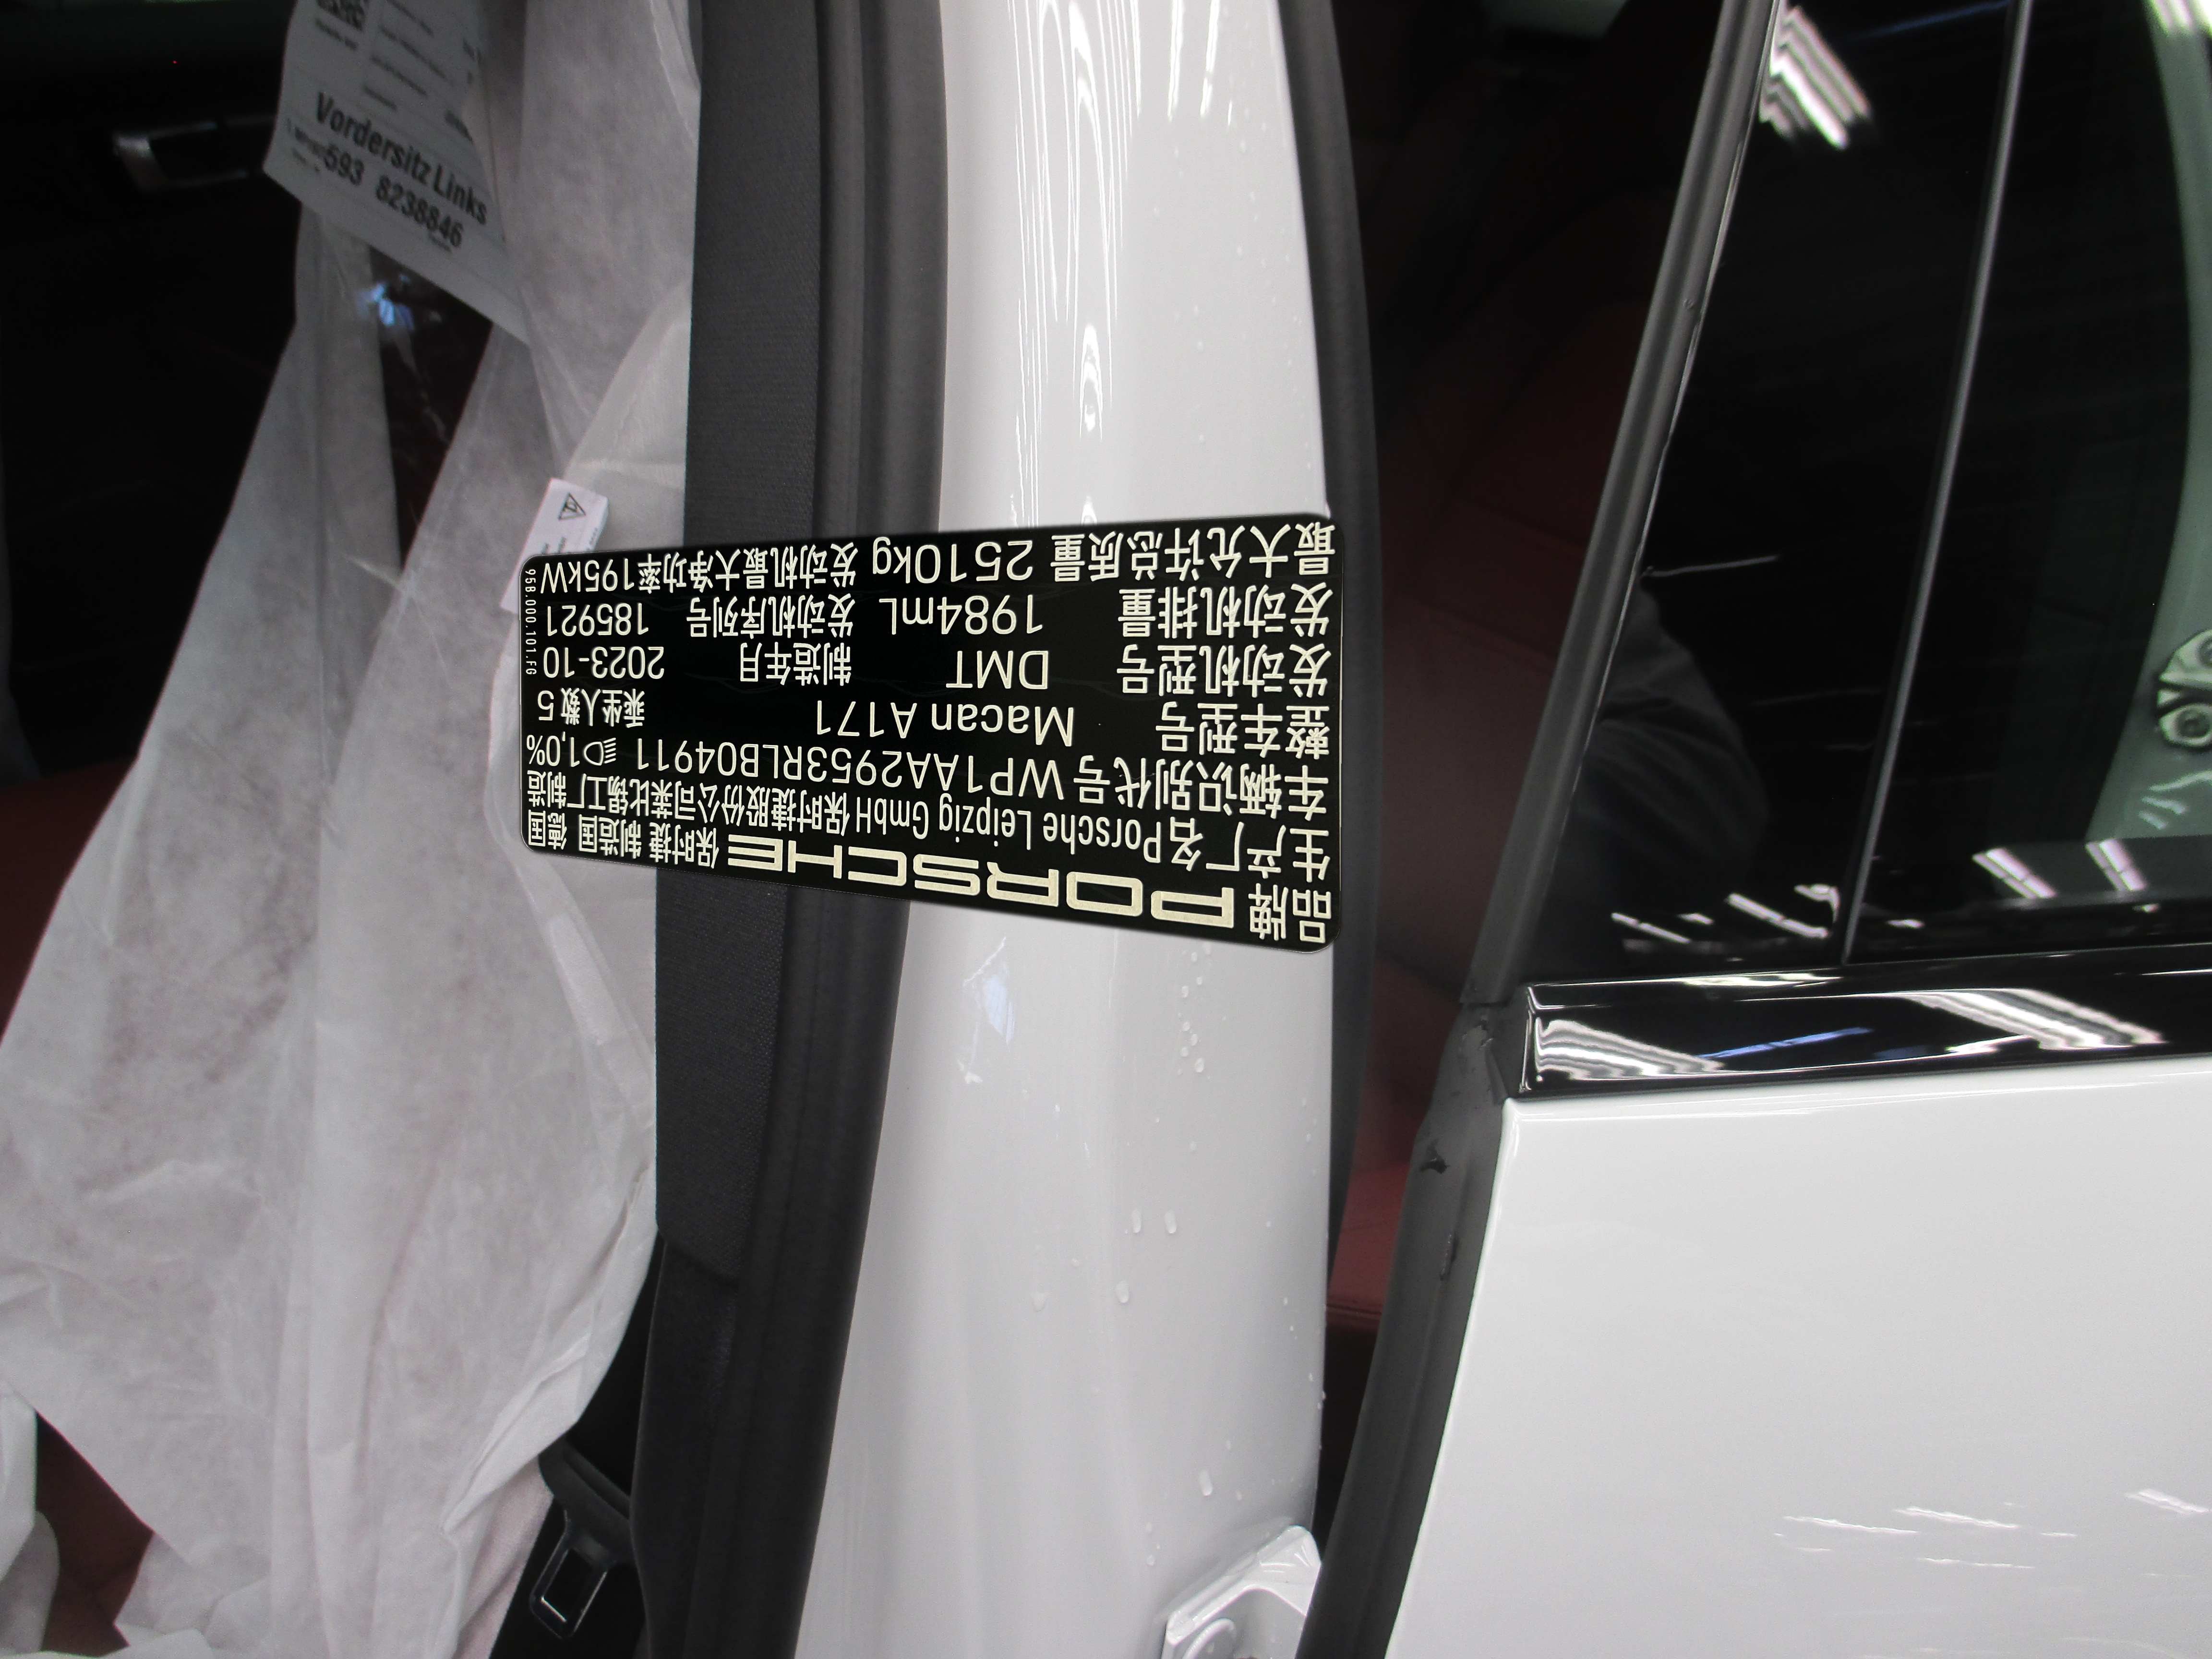Typlabel-China: (519, 512, 1343, 953)
